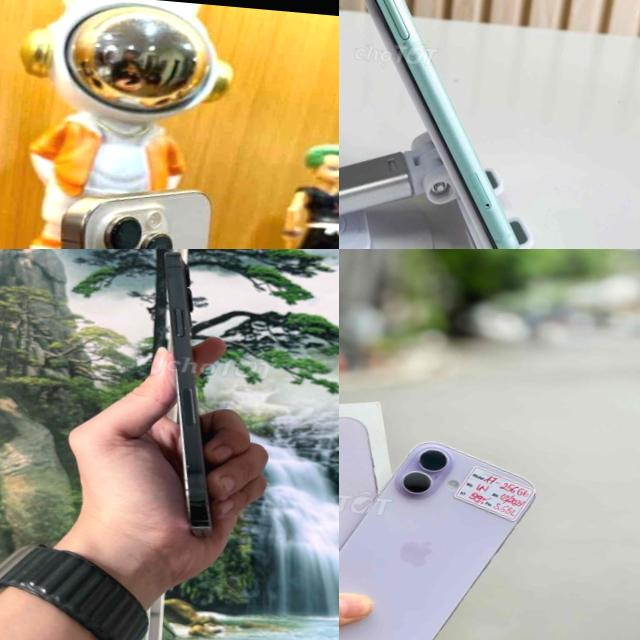gen_11: (371, 0, 517, 249)
gen_12_13: (123, 249, 253, 537)
gen_16: (23, 171, 242, 249)
gen_17: (339, 427, 549, 640)
